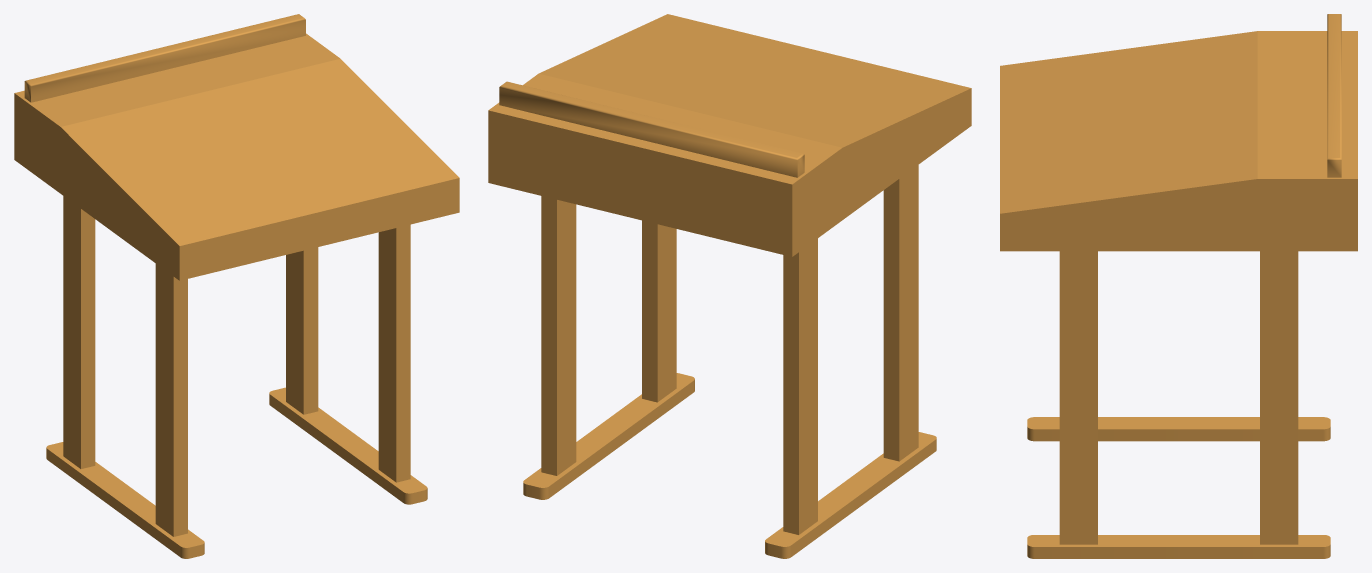
3 views of the same model, side by side, from view 1: azimuth 30°, elevation 25°; view 2: azimuth 150°, elevation 25°; view 3: azimuth 270°, elevation 25° (orthographic). The views are drawn at different scales.
Visible parts, largest first — view 1: drafting_table; view 2: drafting_table; view 3: drafting_table.
Boxes of the visible parts, x1,y1,x2,y2 form: drafting_table: [14, 14, 459, 558]; drafting_table: [488, 14, 971, 558]; drafting_table: [1000, 14, 1357, 558].
Bounding box in the file's own units: 0.583 × 0.75 × 0.596.
